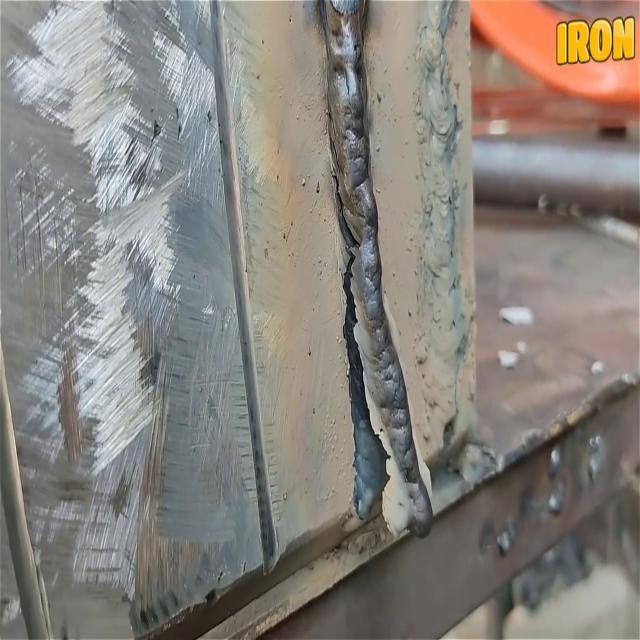Bad Welding: (313, 0, 432, 545), (414, 4, 468, 446)
Crack: (322, 58, 388, 510)
